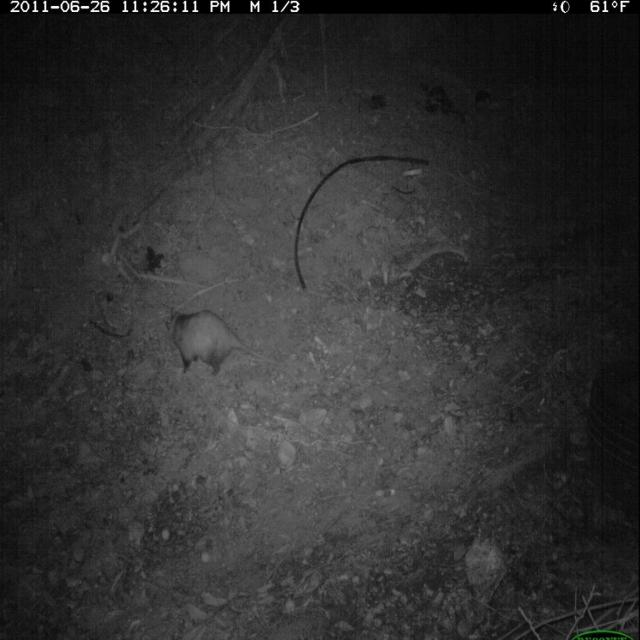opossum: (164, 304, 287, 378)
